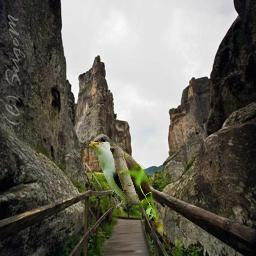Cuckoo: (84, 134, 170, 238)
